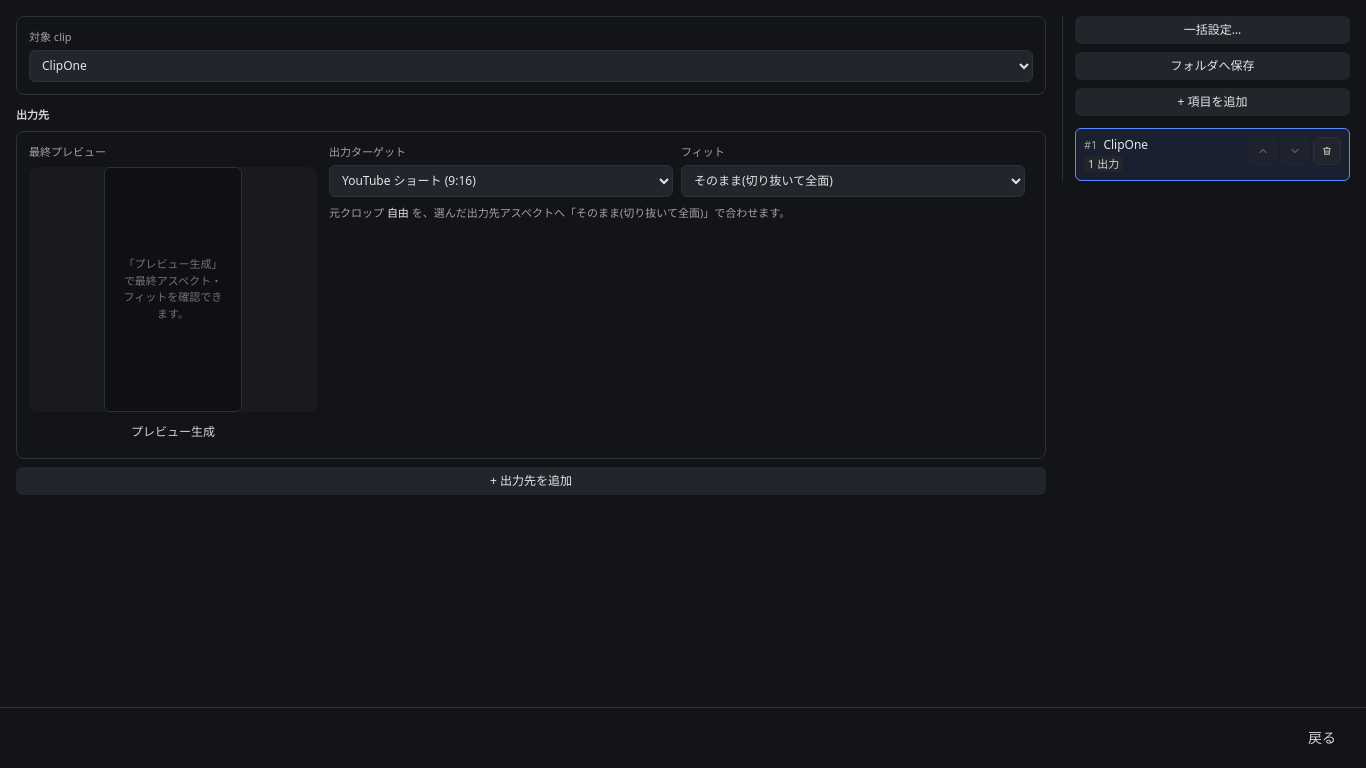
Test: public のリフレーム画面: 投稿系 UI が一切現れない › 項目一覧・一括設定は「投稿」ではなく「項目」と表記される
The image size is (1366, 768).
Expected: the button "+ 項目を追加" is shown, x1=1075 y1=88 x2=1350 y2=116
Click the button "一括設定…". click: (1212, 30)
box: x1=1075 y1=16 x2=1350 y2=44
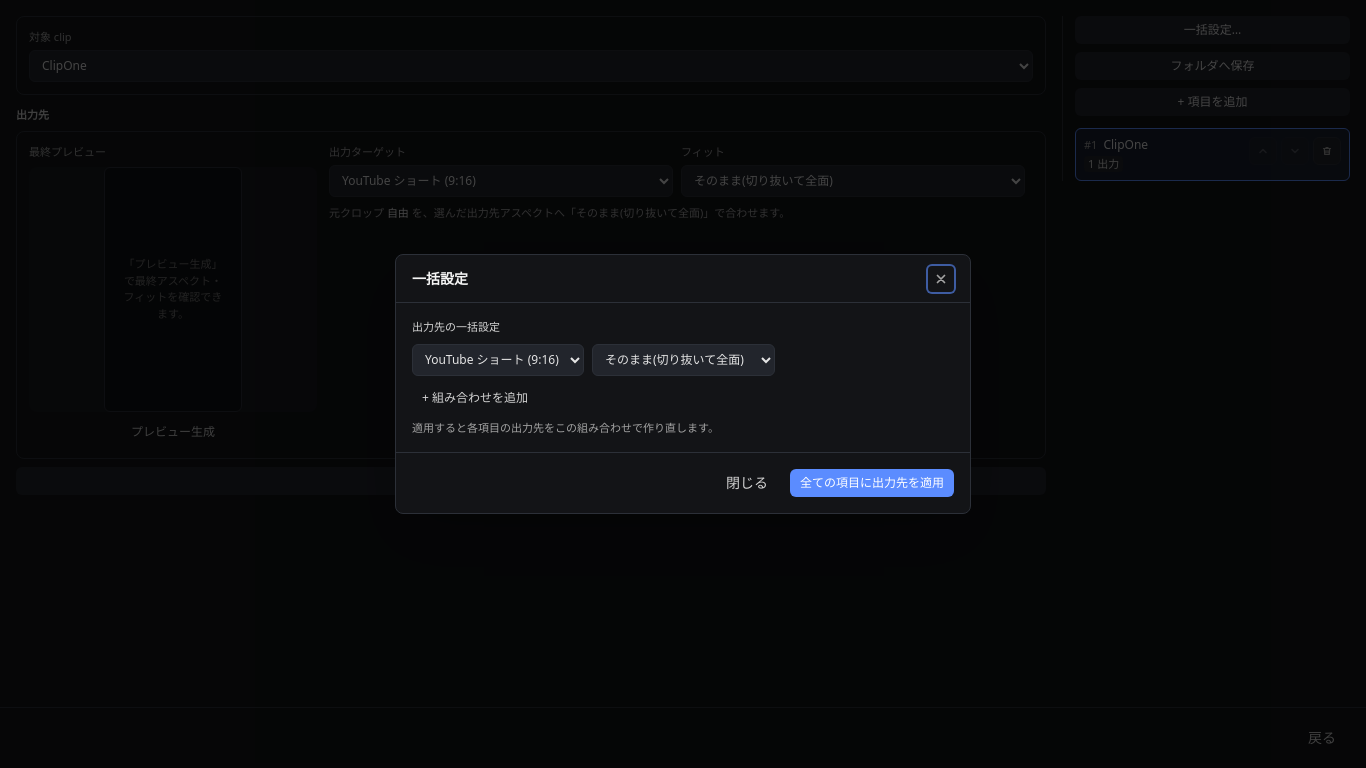
Now the button "全ての項目に出力先を適用" is shown, box x1=790 y1=469 x2=954 y2=497
